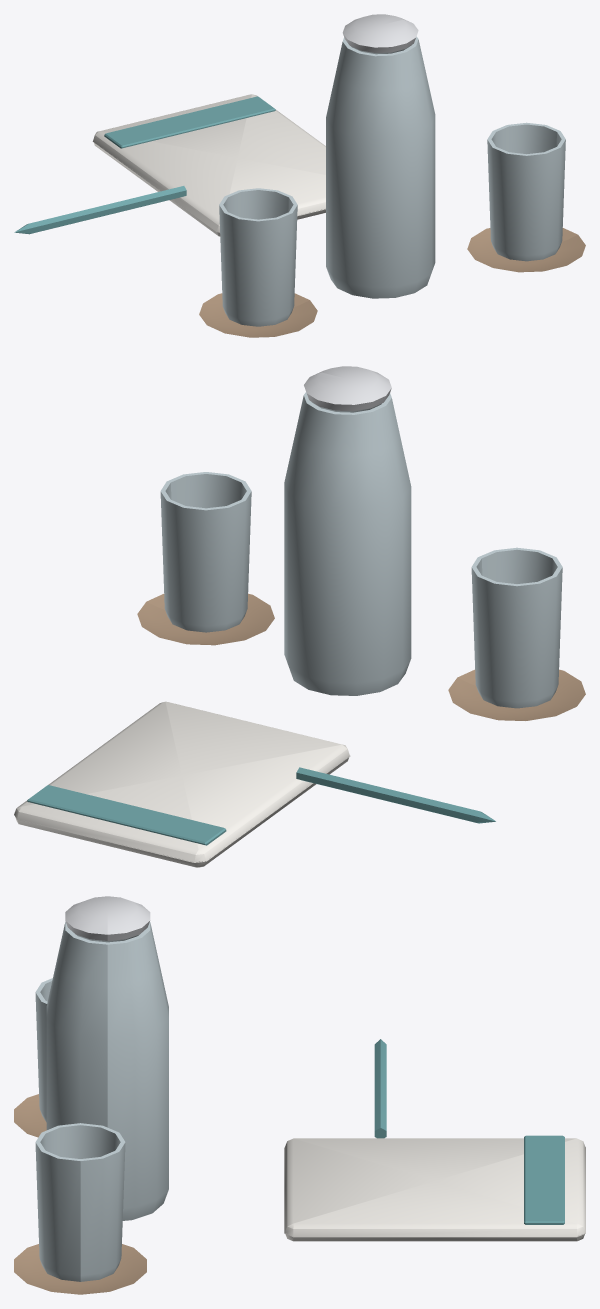
The model's file is hotel-and-resort-operations-delegate-water-set-1b7fdeea__25923.glb.
3 renders of one model, top to bottom at view 1: azimuth 30°, elevation 25°; view 2: azimuth 150°, elevation 25°; view 3: azimuth 270°, elevation 25°, orthographic. The views are drawn at different scales.
Parts seen in each view (by area): view 1: delegate-water-set; view 2: delegate-water-set; view 3: delegate-water-set.
Boxes of the visible parts, <box> form: delegate-water-set: <box>14,14,585,337</box>; delegate-water-set: <box>14,366,585,867</box>; delegate-water-set: <box>14,896,585,1294</box>.
Size of the model in its own units: 0.42 by 0.234 by 0.4192.
